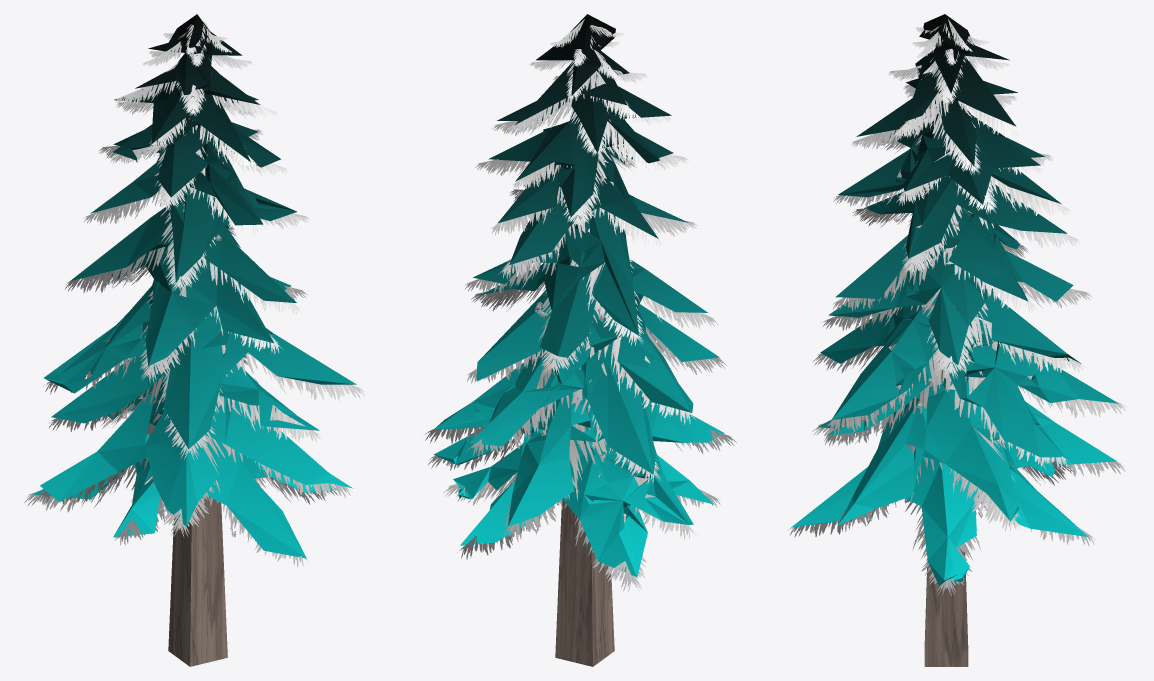
The model's file is PineTree03b.fbx.
3 renders of one model, left to right at view 1: azimuth 30°, elevation 25°; view 2: azimuth 150°, elevation 25°; view 3: azimuth 270°, elevation 25°, orthographic.
Parts seen in each view (by area): view 1: PineTree03b_LOD0.001; view 2: PineTree03b_LOD0.001; view 3: PineTree03b_LOD0.001.
Part boxes in pixels (<box>): PineTree03b_LOD0.001: <box>24,14,366,666</box>; PineTree03b_LOD0.001: <box>425,14,736,666</box>; PineTree03b_LOD0.001: <box>788,14,1127,666</box>.
Size of what is drawn, in the model's own units: 476 by 1004 by 509.
